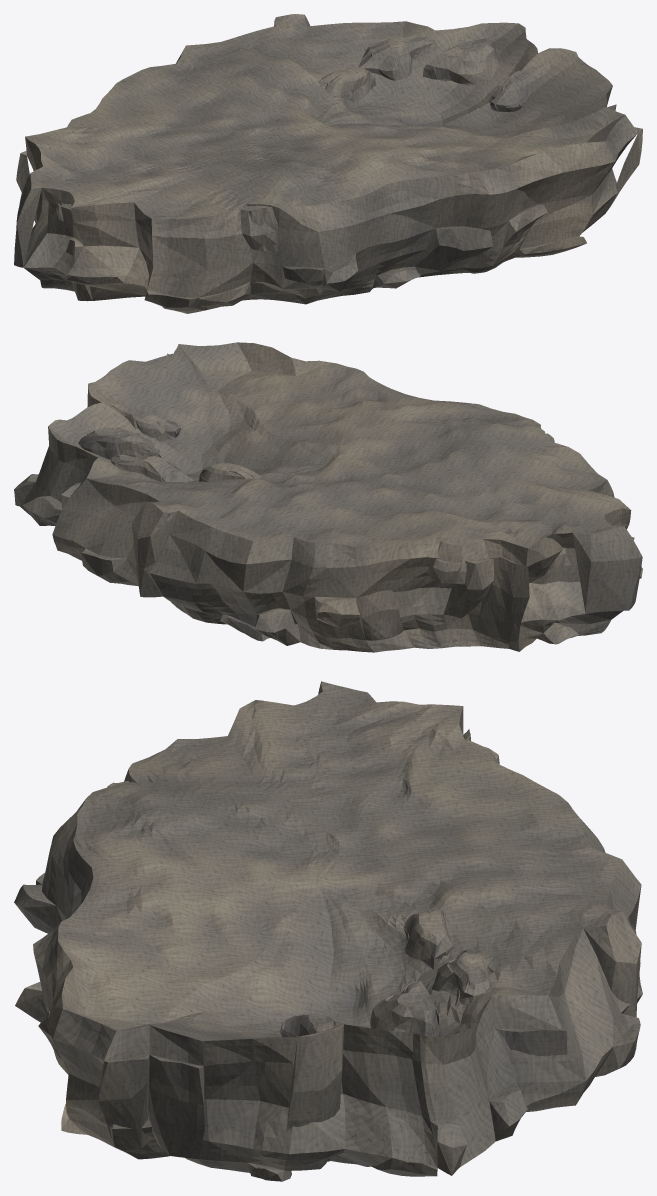
3 renders of one model, top to bottom at view 1: azimuth 30°, elevation 25°; view 2: azimuth 150°, elevation 25°; view 3: azimuth 270°, elevation 25°, orthographic. The views are drawn at different scales.
Visible parts, largest first — view 1: F02_stone; view 2: F02_stone; view 3: F02_stone.
Boxes of the visible parts, <box> form: F02_stone: <box>14,14,642,313</box>; F02_stone: <box>14,342,642,652</box>; F02_stone: <box>14,681,642,1181</box>.
Size of the model in its own units: 50.91 by 9.91 by 34.44.
Materials: 1 (1 with a texture image).
